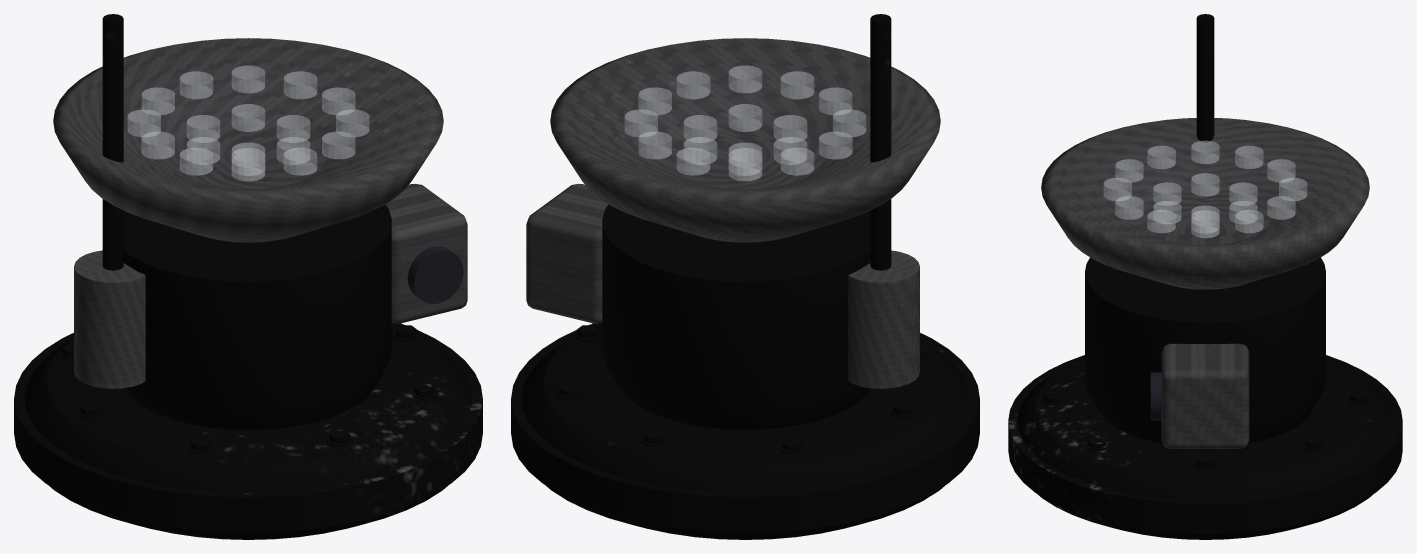
3 views of the same model, side by side, from view 1: azimuth 30°, elevation 25°; view 2: azimuth 150°, elevation 25°; view 3: azimuth 270°, elevation 25° (orthographic). The views are drawn at different scales.
Visible parts, largest first — view 1: TL07_Static_CarbonFiber, TL07_Static_Titanium, TL07_Static_AnodizedBlack, TL07_Static_OpticalGlass, TL07_Static_LensOptic; view 2: TL07_Static_CarbonFiber, TL07_Static_Titanium, TL07_Static_AnodizedBlack, TL07_Static_OpticalGlass; view 3: TL07_Static_CarbonFiber, TL07_Static_Titanium, TL07_Static_AnodizedBlack, TL07_Static_OpticalGlass, TL07_Static_LensOptic.
Boxes of the visible parts, x1,y1,x2,y2 form: TL07_Static_CarbonFiber: [53, 38, 467, 388]; TL07_Static_Titanium: [14, 14, 482, 539]; TL07_Static_AnodizedBlack: [123, 204, 391, 429]; TL07_Static_OpticalGlass: [128, 65, 368, 180]; TL07_Static_LensOptic: [407, 246, 463, 303]; TL07_Static_CarbonFiber: [526, 38, 940, 388]; TL07_Static_Titanium: [511, 14, 979, 539]; TL07_Static_AnodizedBlack: [602, 204, 870, 429]; TL07_Static_OpticalGlass: [625, 65, 865, 180]; TL07_Static_CarbonFiber: [1041, 118, 1369, 448]; TL07_Static_Titanium: [1008, 14, 1402, 539]; TL07_Static_AnodizedBlack: [1085, 257, 1325, 443]; TL07_Static_OpticalGlass: [1104, 140, 1306, 238]; TL07_Static_LensOptic: [1150, 372, 1161, 420].
Bounding box in the file's own units: 0.36 × 0.4 × 0.36.
5 materials, 3 textured.
